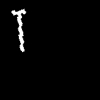half_double_crochet: (12, 10, 25, 51)
